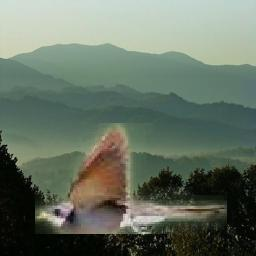Cuckoo: (35, 124, 227, 235)
